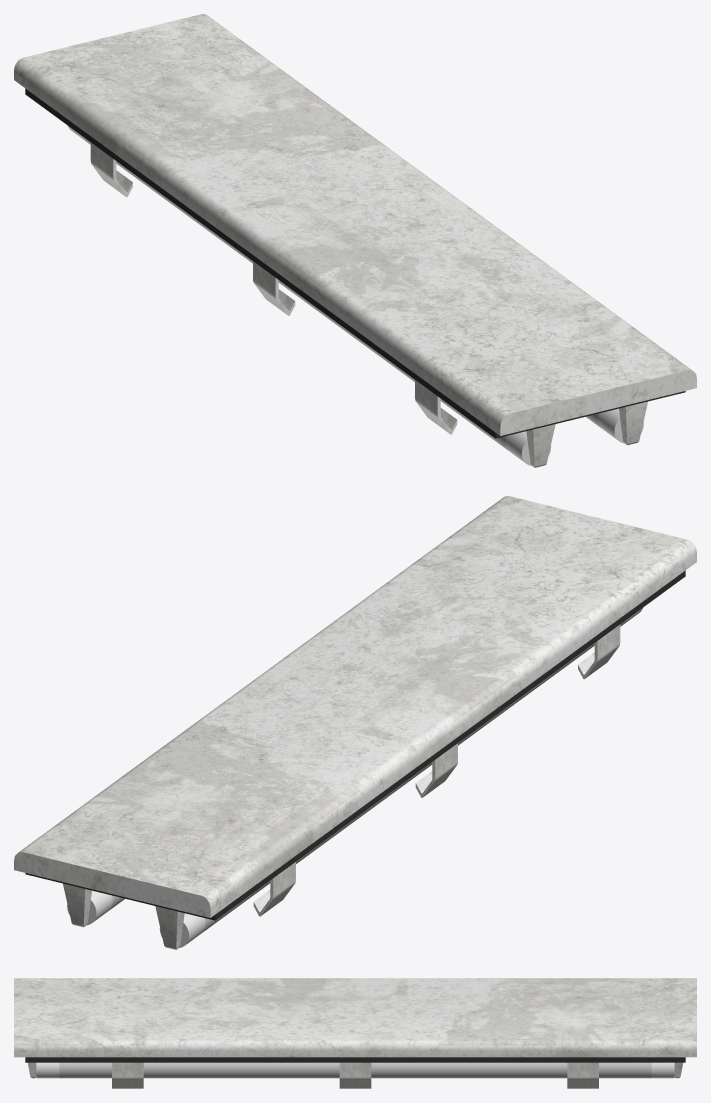
Rendered from lamp 2.fbx.
3 views of the same model, one above another, from view 1: azimuth 30°, elevation 25°; view 2: azimuth 150°, elevation 25°; view 3: azimuth 270°, elevation 25° (orthographic). The views are drawn at different scales.
Visible parts, largest first — view 1: Cube, Cylinder.002; view 2: Cube, Cylinder.002; view 3: Cube, Cylinder.001.
Boxes of the visible parts, x1,y1,x2,y2 form: Cube: (14,14,696,467); Cylinder.002: (68,126,551,465); Cube: (14,496,696,949); Cylinder.002: (159,608,642,947); Cube: (14,978,696,1088); Cylinder.001: (36,1062,674,1078).
Bounding box in the file's own units: 70 × 25.47 × 300.
